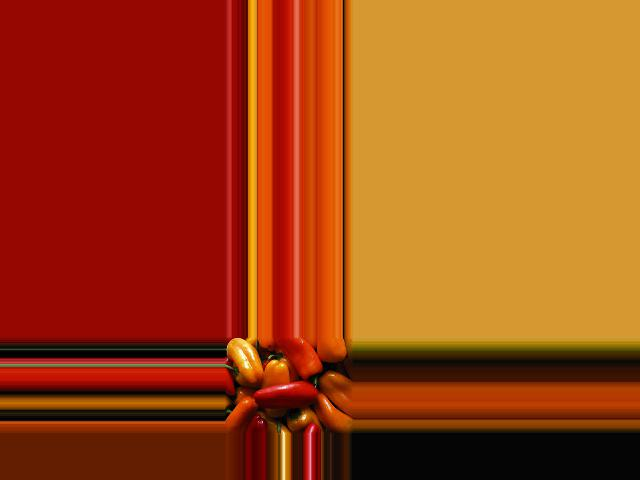bell_pepper: (225, 339, 266, 383)
